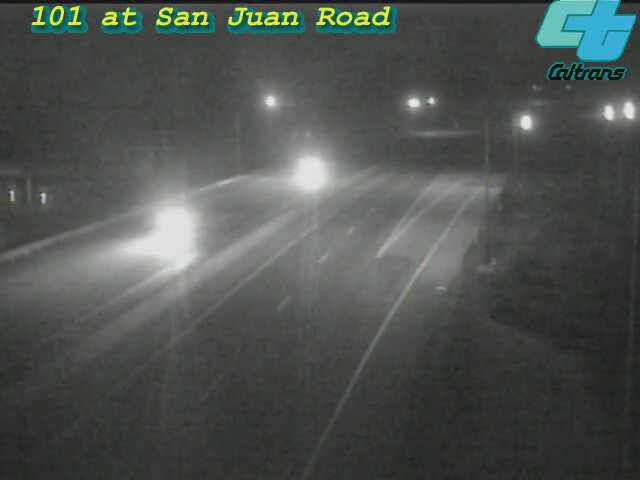vehicle: (132, 179, 212, 259), (272, 129, 352, 209), (499, 98, 549, 148), (583, 89, 633, 139), (602, 85, 640, 135)
